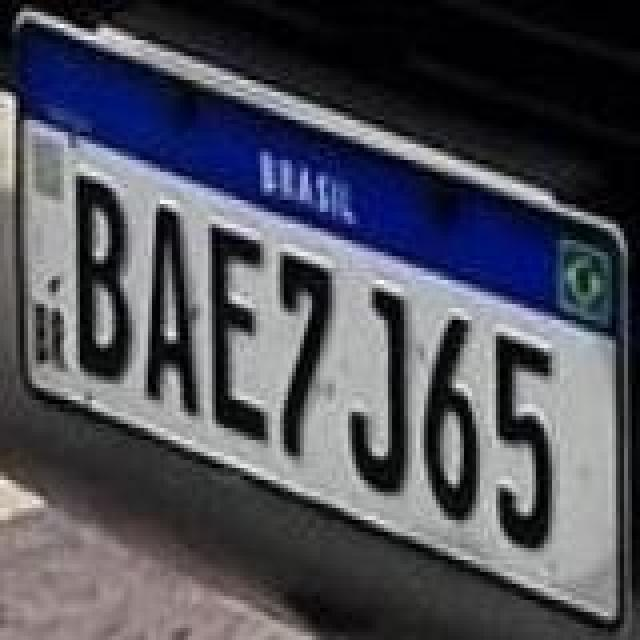5: (494, 328, 554, 552)
6: (416, 310, 480, 522)
7: (274, 246, 334, 458)
A: (146, 204, 206, 420)
B: (74, 170, 134, 382)
E: (208, 214, 272, 442)
J: (344, 284, 408, 500)
